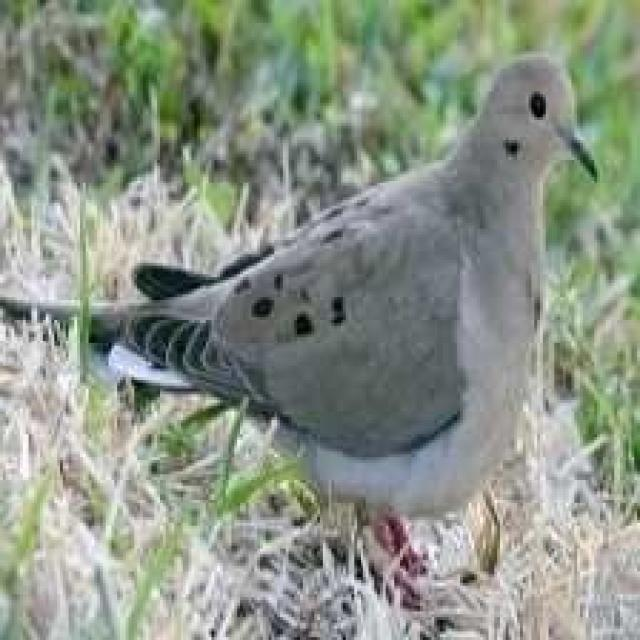bird: (0, 42, 603, 586)
